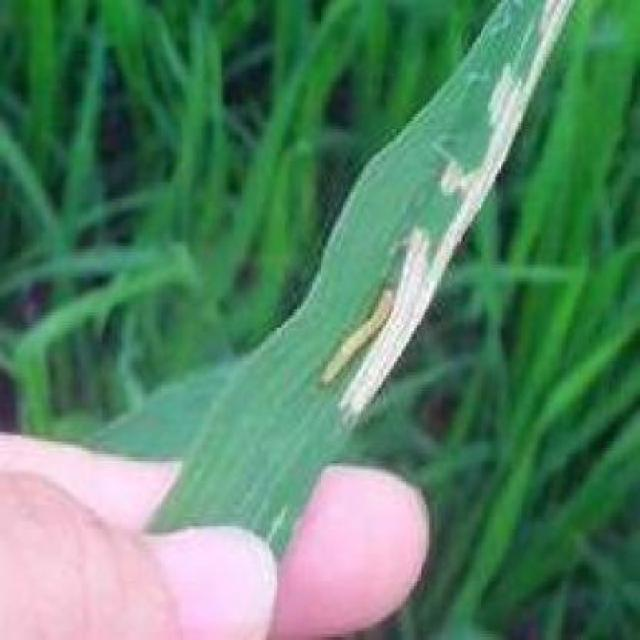leaf-folder: (306, 266, 425, 408)
